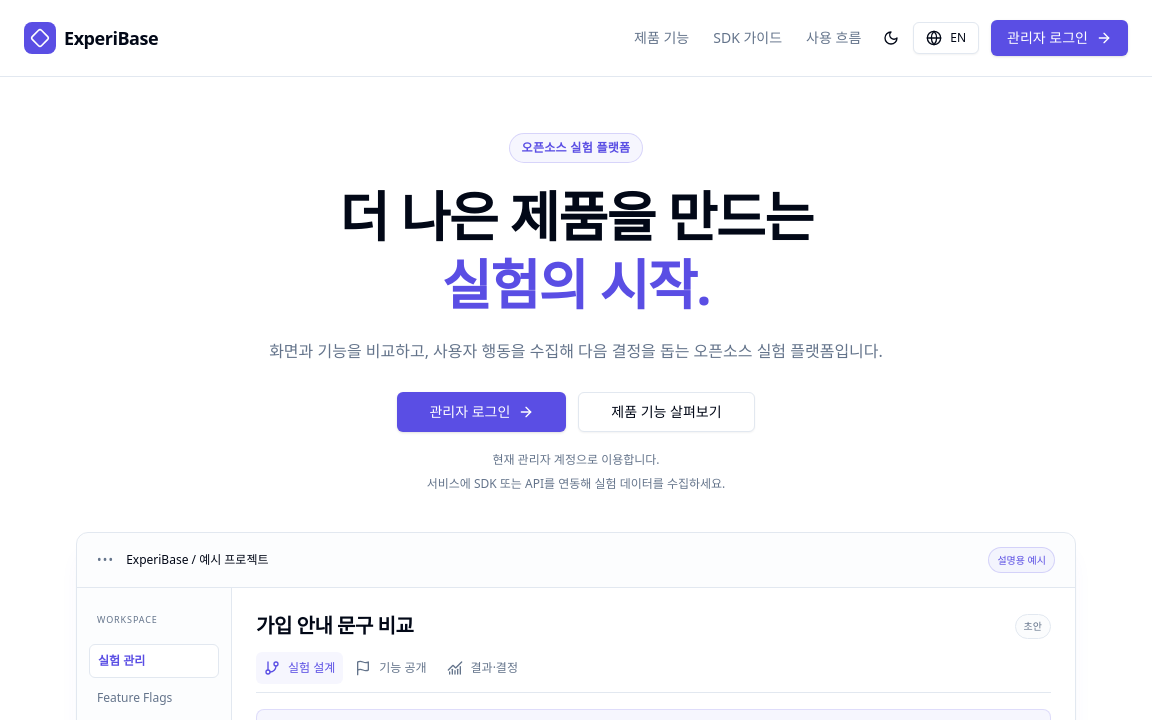
App Component › explores illustrative product states without requesting management data
The image size is (1152, 720).
Click the button "기능 공개". click: (391, 668)
box: [347,652,435,684]
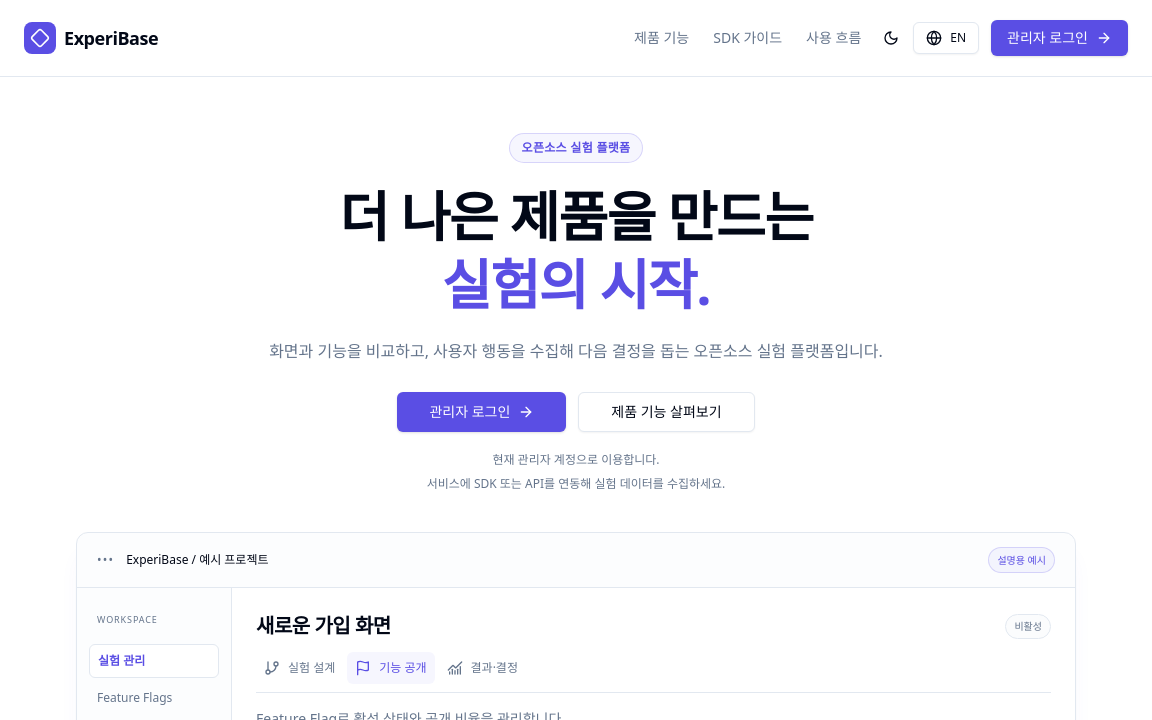
expect the text "비활성" is shown: met, box [1005,614,1051,638]
Click the button "결과·결정". click: (482, 668)
box: [439,652,526,684]
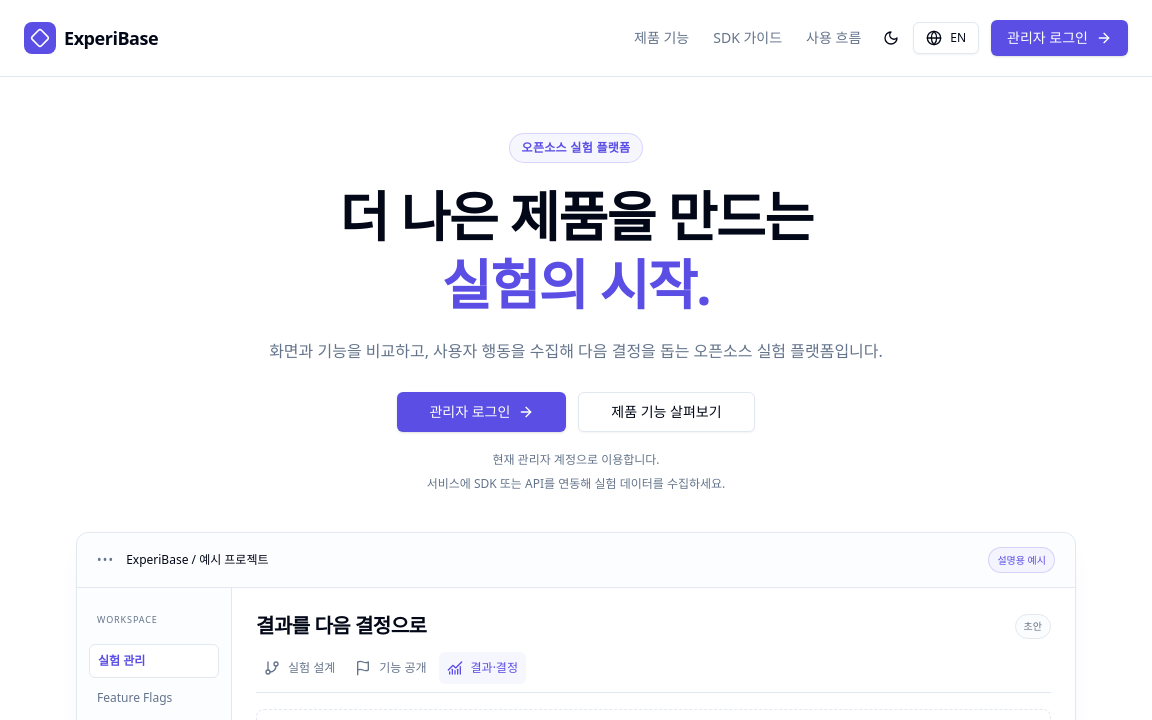
Click the button with aria-label "Switch to English". click: (946, 38)
box: [913,22,979,54]
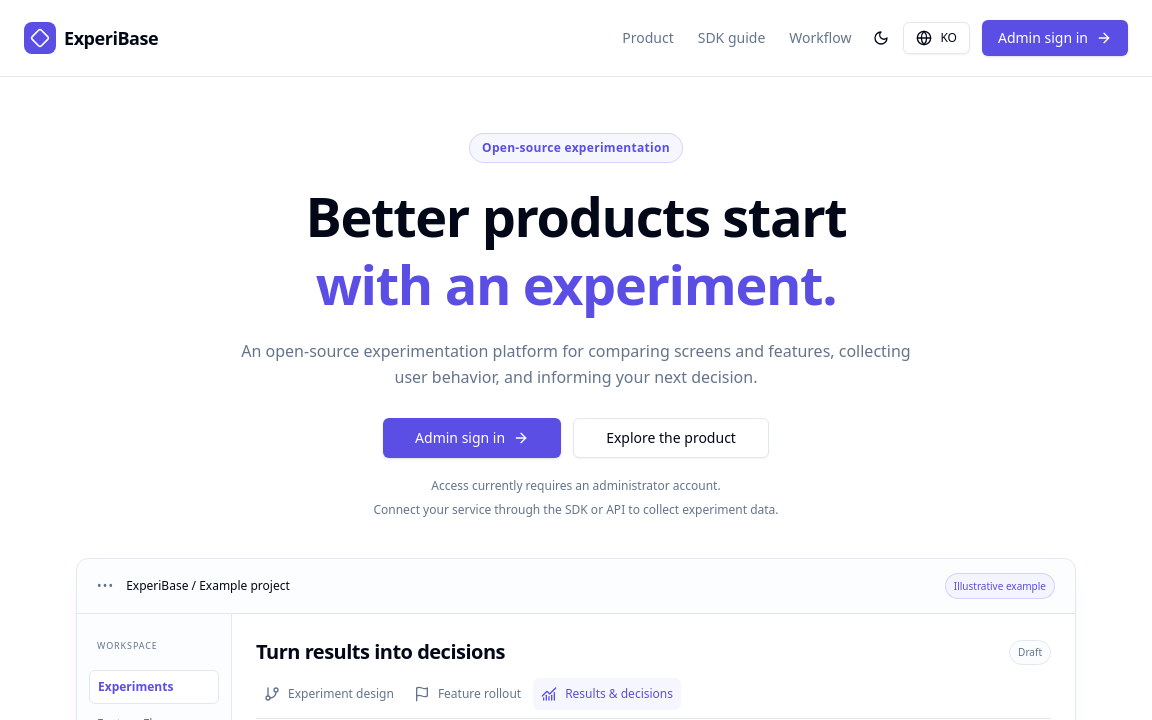
Click the button "Experiment design". click: (329, 694)
box: [256,678,402,710]
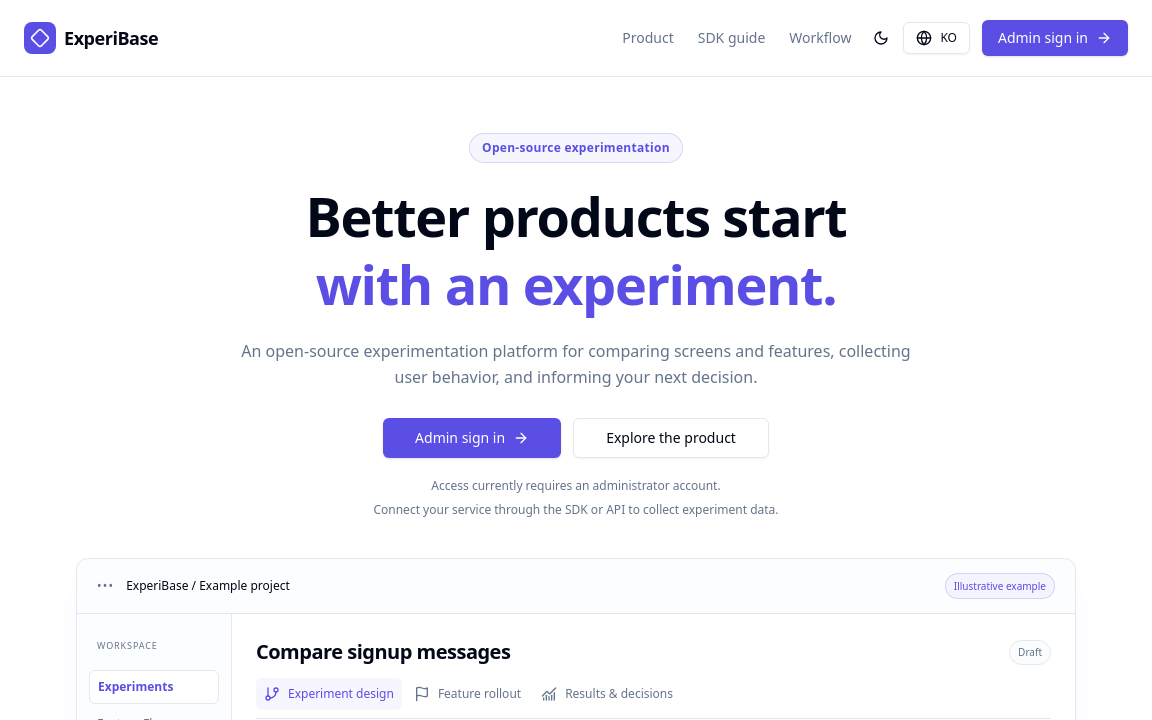
expect the heading "Compare signup messages" is shown: met, box [256,638,510,666]
